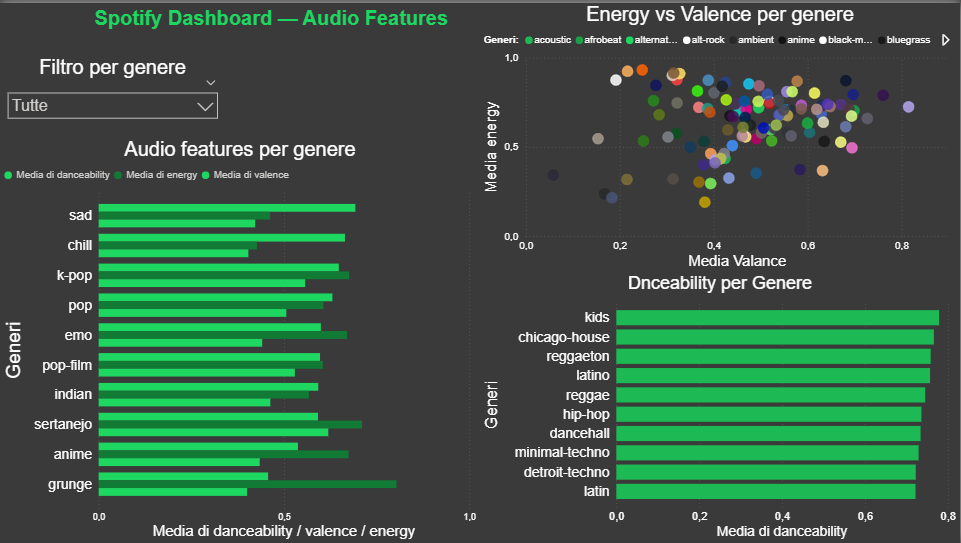

The page's visual inventory and layout, read from the dashboard file:
{"tool":"powerbi","page":{"name":"Audio Features","canvas":[1280,720],"ordinal":1},"visuals":[{"type":"scatterChart","title":"Energy vs Valence per genere","fields":{"X":["Avg(spotify_tracks.valence)"],"Y":["Avg(spotify_tracks.energy)"],"Category":["spotify_tracks.track_genre"],"Series":["spotify_tracks.track_genre"]},"box":[640,0,640,360],"z":0},{"type":"clusteredBarChart","title":"Audio features per genere","fields":{"Category":["spotify_tracks.track_genre"],"Y":["Avg(spotify_tracks.danceability)","Avg(spotify_tracks.energy)","Avg(spotify_tracks.valence)"]},"box":[0,180,640,540],"z":1000},{"type":"slicer","title":"Filtro per genere","fields":{"Values":["spotify_tracks.track_genre"]},"box":[0,70,300,90],"z":2000},{"type":"clusteredBarChart","title":"Dnceability per Genere","fields":{"Category":["spotify_tracks.track_genre"],"Y":["Avg(spotify_tracks.danceability)"]},"box":[640,360,640,360],"z":3000},{"type":"textbox","box":[83.3,0,556.7,51.7],"z":4000}]}

Visuals, with their boxes in screenshot pixels (x1, y1, x2, y2), scaled from the page's 1280x720 canvas onto the 961x543 screenshot:
"Energy vs Valence per genere" scatterChart: bbox=(480, 0, 960, 272)
"Audio features per genere" clusteredBarChart: bbox=(0, 136, 480, 542)
"Filtro per genere" slicer: bbox=(0, 53, 225, 121)
"Dnceability per Genere" clusteredBarChart: bbox=(480, 272, 960, 542)
textbox: bbox=(63, 0, 480, 39)
